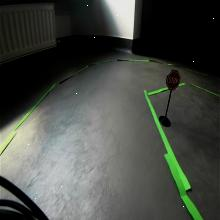stop: (166, 70, 180, 90)
